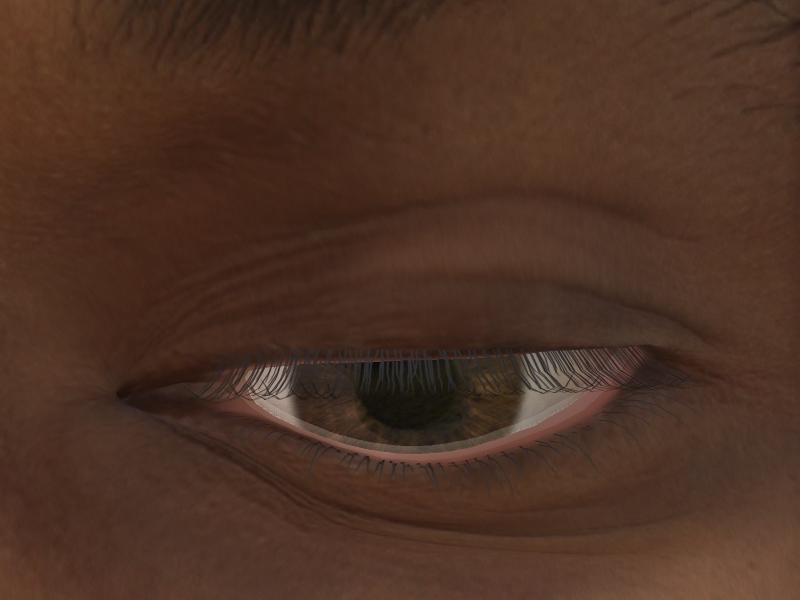eye: (288, 358, 526, 448)
